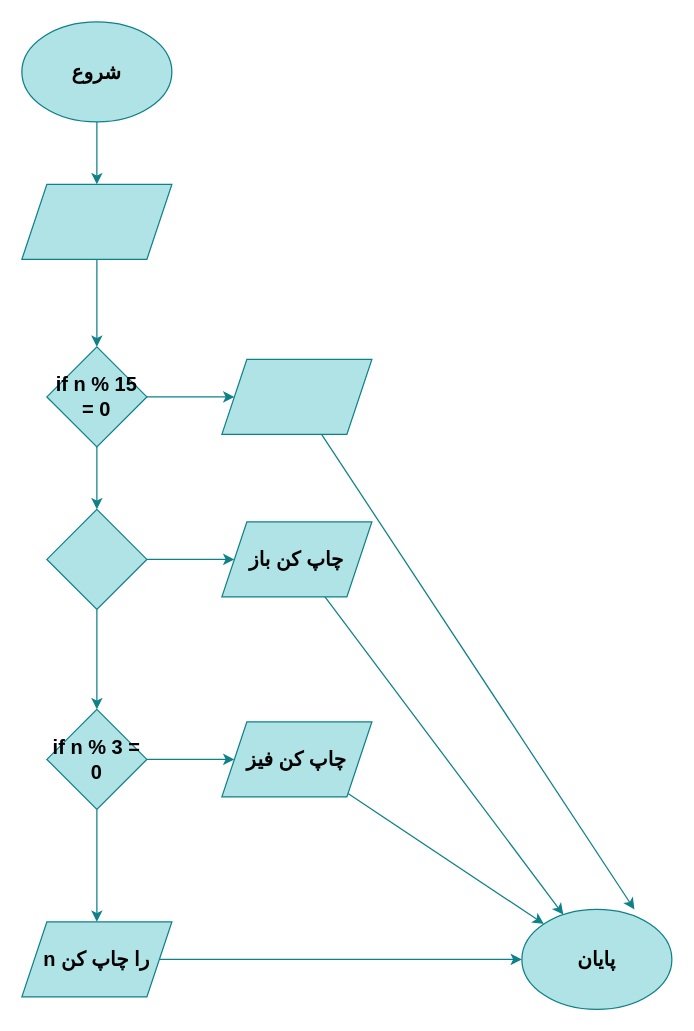
The diagram is 694 pixels wide and 1031 high, and some of its shapes have lost their labels. The centre of each missing label's shape, as x and y in pixels:
"if n % 5 = 0" belongs at [96,558].
"n را بخوان" belongs at [96,221].
"چاپ کن فیزباز" belongs at [296,396].
